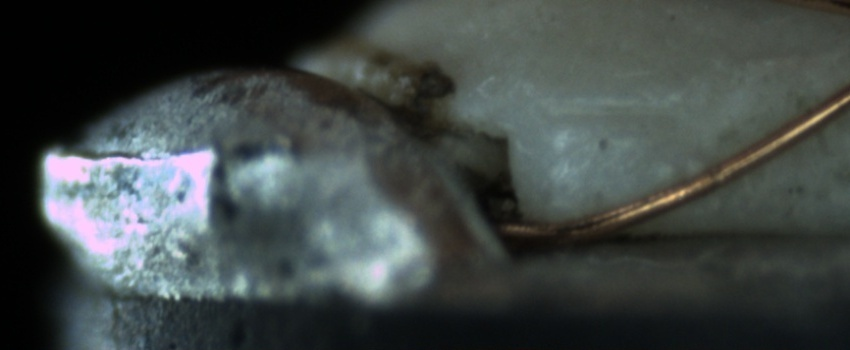DL: (542, 80, 674, 151)
